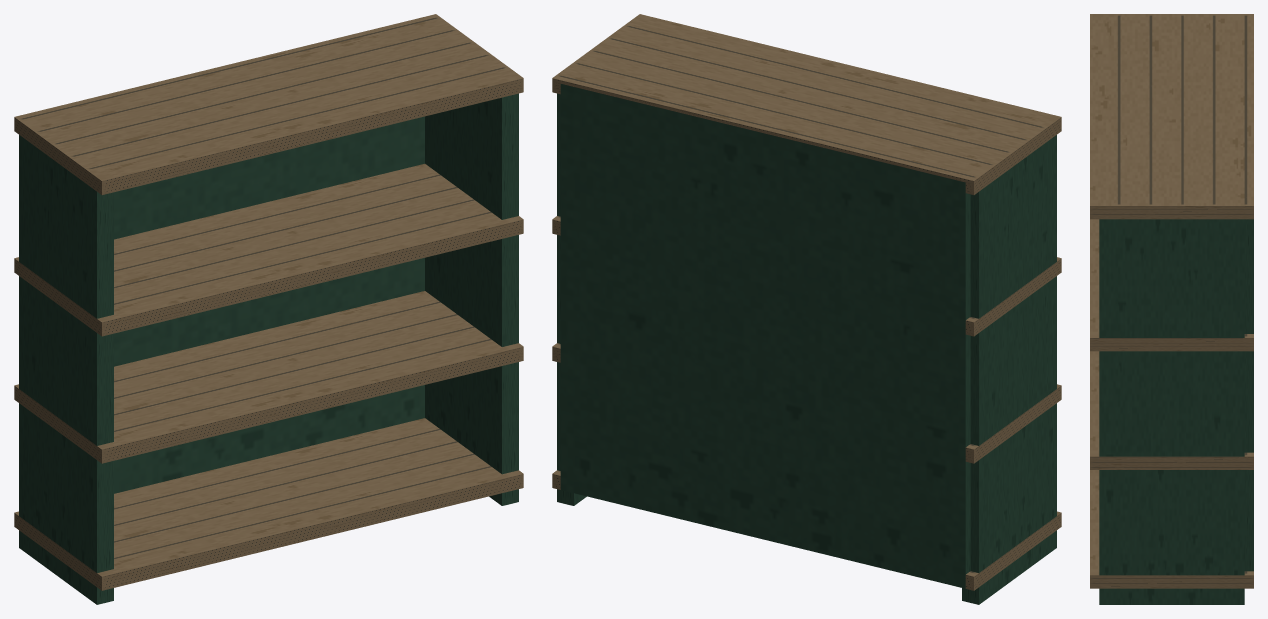
Rendered from ParcelShelf.fbx.
3 views of the same model, side by side, from view 1: azimuth 30°, elevation 25°; view 2: azimuth 150°, elevation 25°; view 3: azimuth 270°, elevation 25° (orthographic). The views are drawn at different scales.
Visible parts, largest first — view 1: ParcelShelf; view 2: ParcelShelf; view 3: ParcelShelf.
Boxes of the visible parts, x1=… form: ParcelShelf: x1=14, y1=14, x2=523, y2=604; ParcelShelf: x1=552, y1=14, x2=1061, y2=604; ParcelShelf: x1=1090, y1=14, x2=1253, y2=604.
Bounding box in the file's own units: 250 × 242 × 90.
